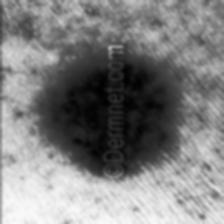Potentially Malignant Skin Tumors: (48, 52, 104, 180), (125, 55, 168, 178)
